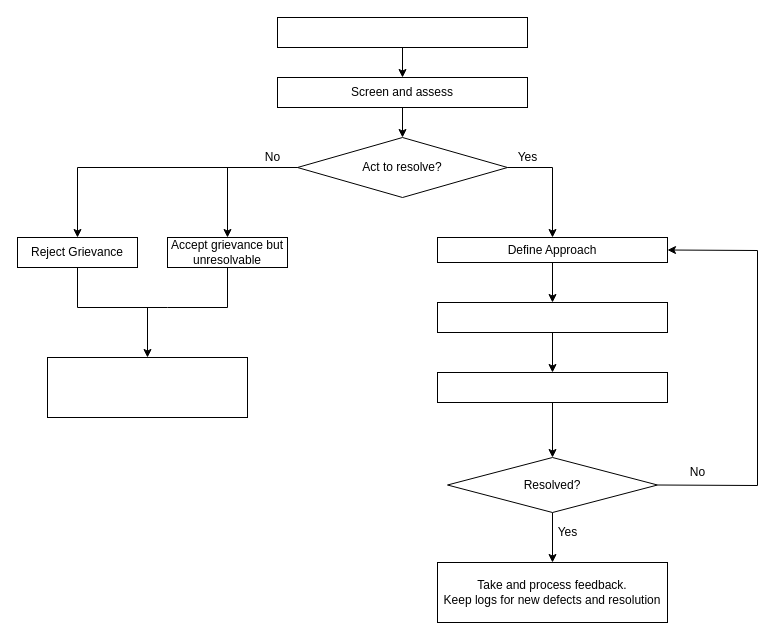
The diagram is 783 pixels wide and 640 high, and some of its shapes have lost their labels. The centre of each missing label's shape, as x and y in pixels:
Communicate decision to user and admin(if unresolvable): the point at 147,387
Implement approach: the point at 552,317
Register grievance: the point at 402,32
Track and Document: the point at 552,387
